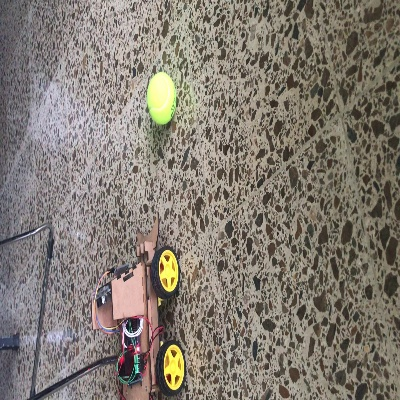Ball: (146, 72, 176, 126)
Robot: (90, 211, 186, 397)
